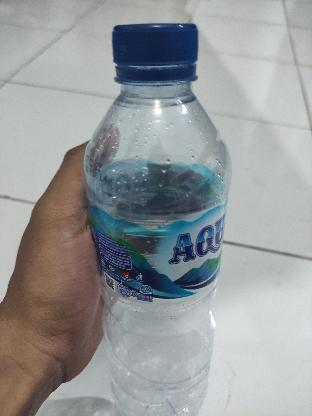Plastic Bottle: (79, 20, 237, 416)
